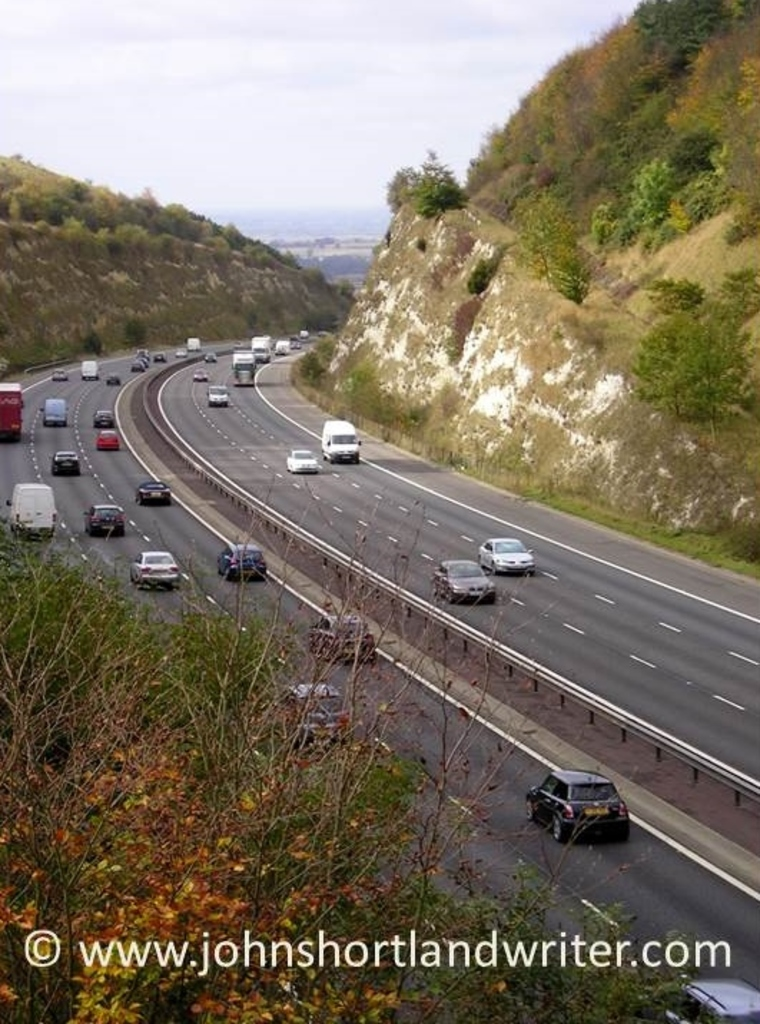Car: (536, 779, 645, 853), (631, 971, 758, 1022), (274, 683, 339, 740), (304, 604, 370, 660), (433, 554, 490, 604), (217, 534, 266, 581), (121, 544, 174, 582), (479, 532, 533, 568), (88, 499, 130, 532), (283, 449, 322, 476), (134, 476, 168, 504), (44, 395, 65, 426), (51, 446, 78, 469), (207, 383, 231, 402), (94, 408, 115, 426), (98, 428, 115, 449), (193, 366, 210, 383), (130, 358, 144, 373), (103, 369, 115, 386), (57, 366, 65, 380), (204, 352, 214, 363)
